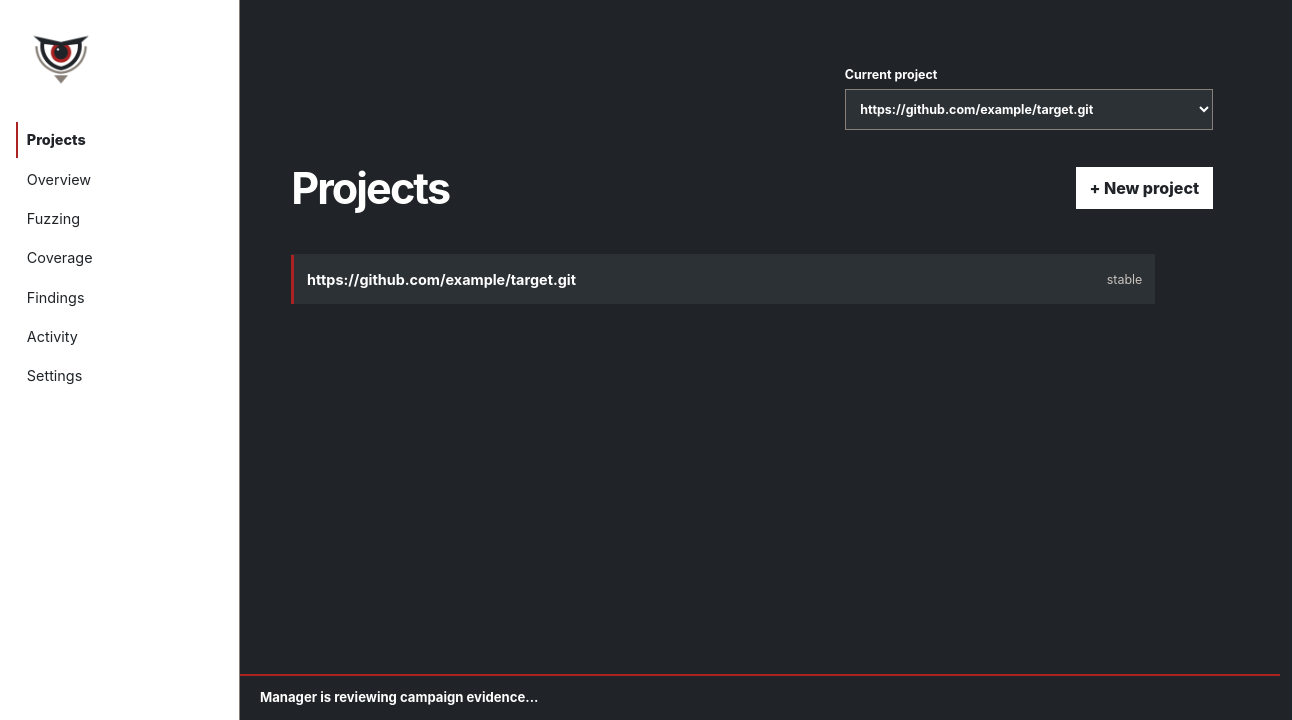
Scenario: App › keeps one manager activity line visible and opens Activity from it
Click the button with aria-label "Open Activity: Manager is reviewing campaign evidence...".
click(399, 697)  # box [240, 676, 1280, 719]
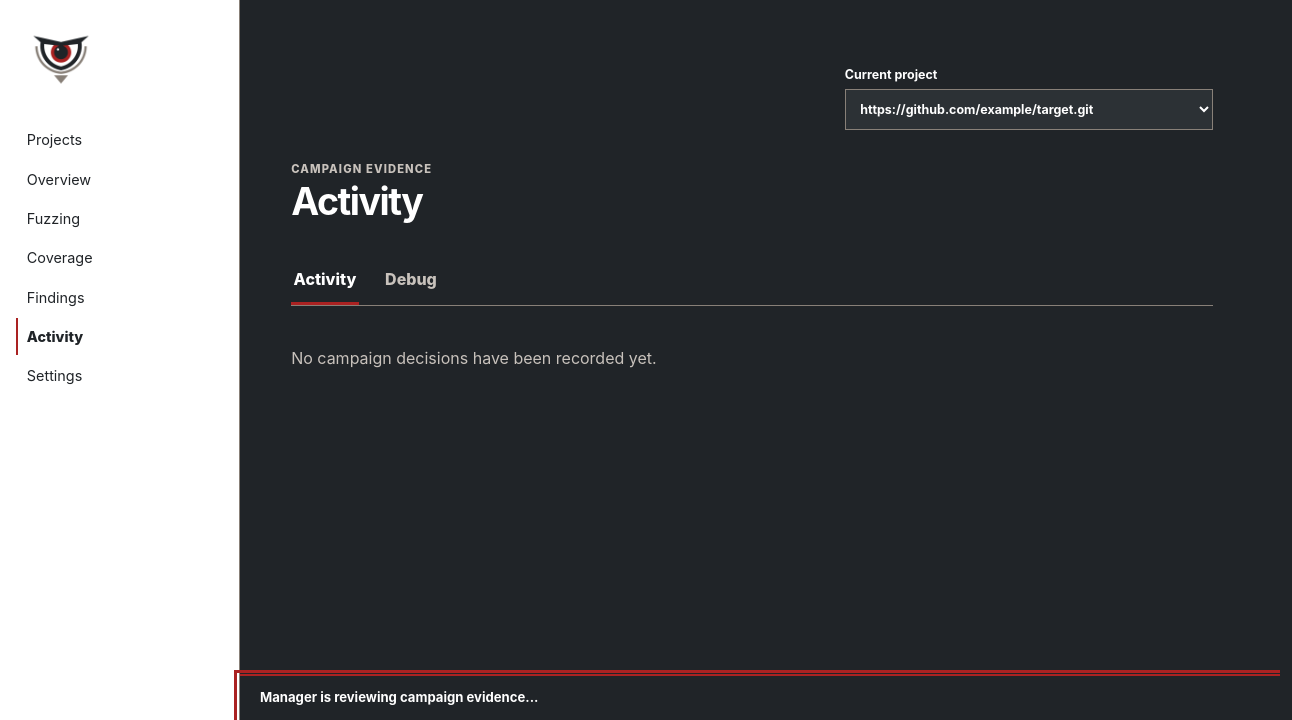
Result: the heading "Activity" is shown at [291, 179, 432, 224]
